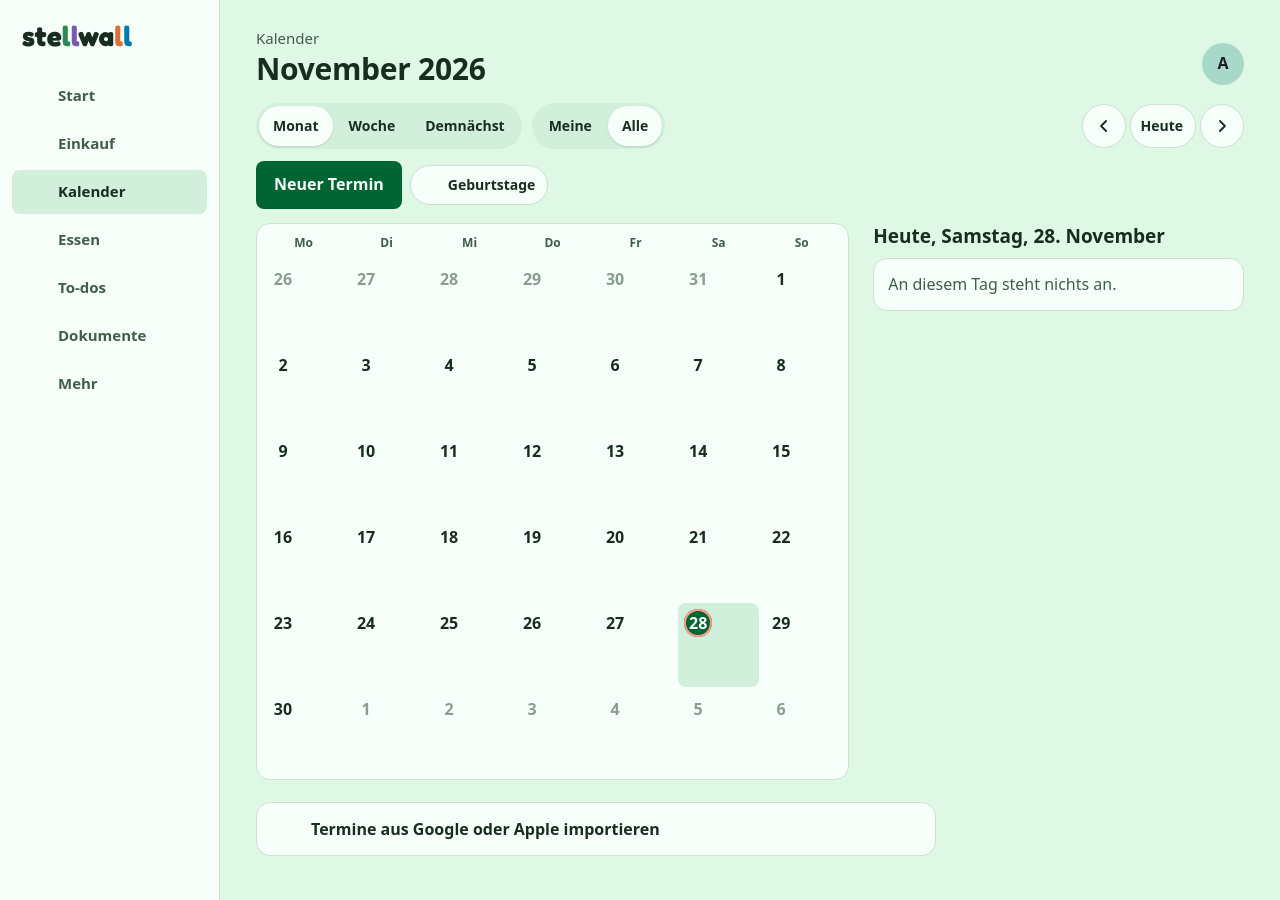
Test case: compact week › empty days take no words, a day with events lists them beside its date
The image size is (1280, 900).
Click the button "Woche". click: (372, 126)
box: [335,106,409,146]
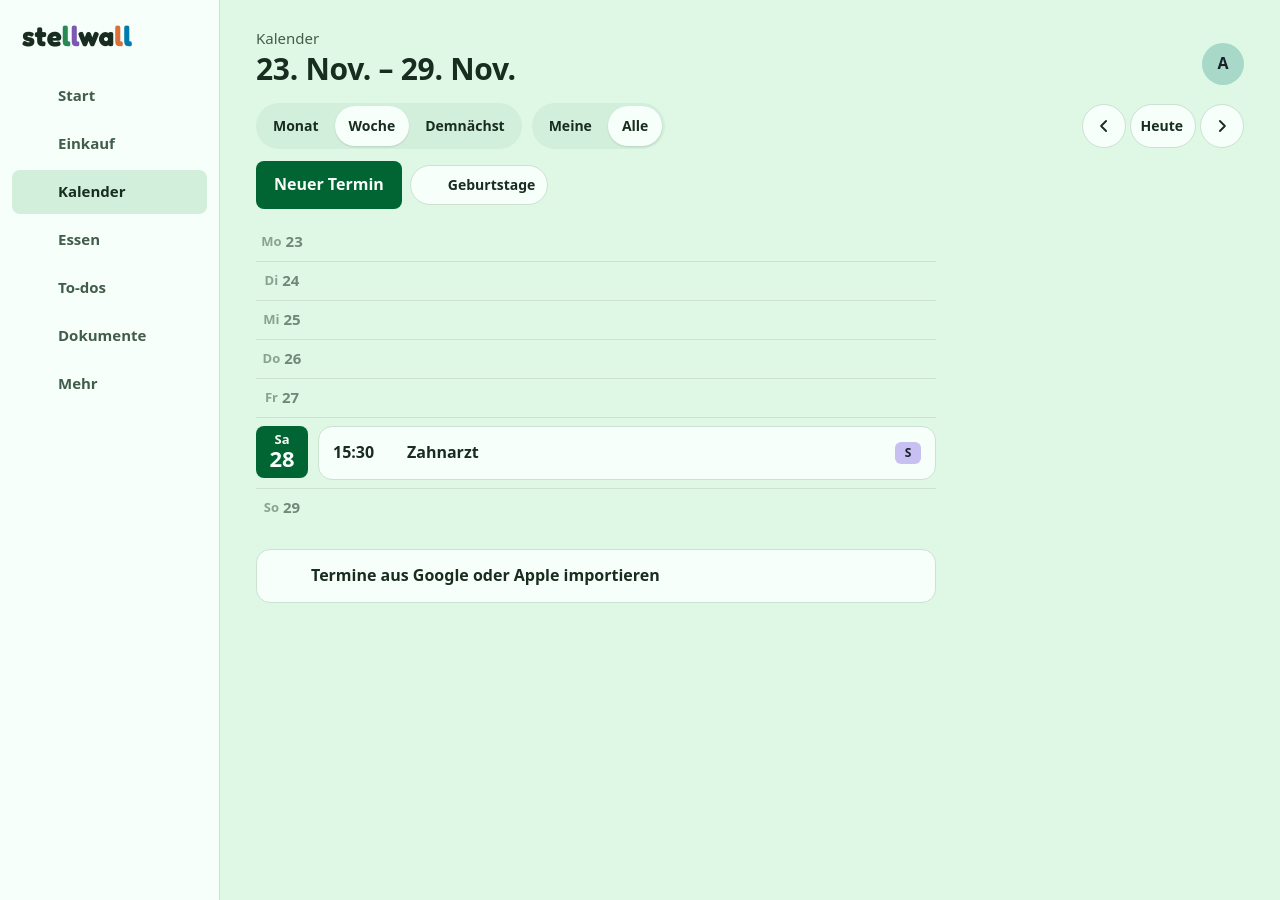
Expected: the button "15:30 Zahnarzt S" is shown, [319,427,935,479]
Expected: the text "An diesem Tag steht nichts an." is gone
Expected: the number of elements with class "agendaday" is 7
